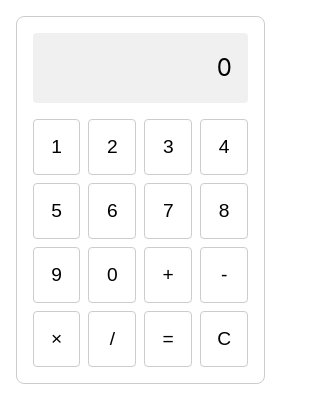
Test: Calculator › performs addition correctly
Click the button "2": (112, 147) 88,119 -> 136,175
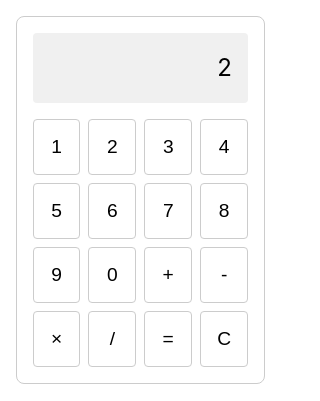
Click the button "+": (168, 275) 144,247 -> 192,303
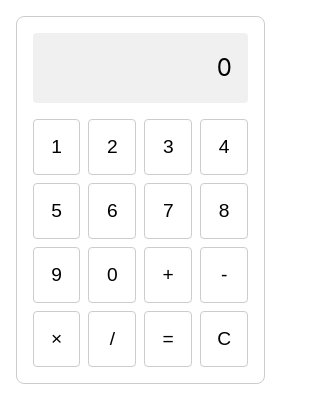
Click the button "3": (168, 147) 144,119 -> 192,175
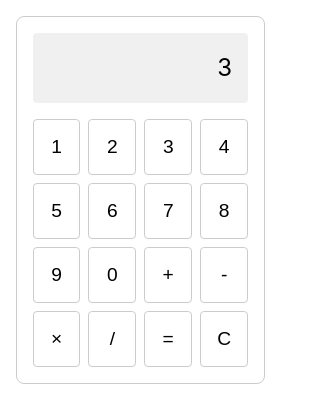
Click the button "=": (168, 339) 144,311 -> 192,367
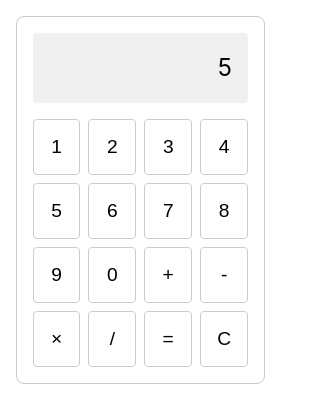
Expected: the text with class "display" reads "5", 218,53 -> 232,82
